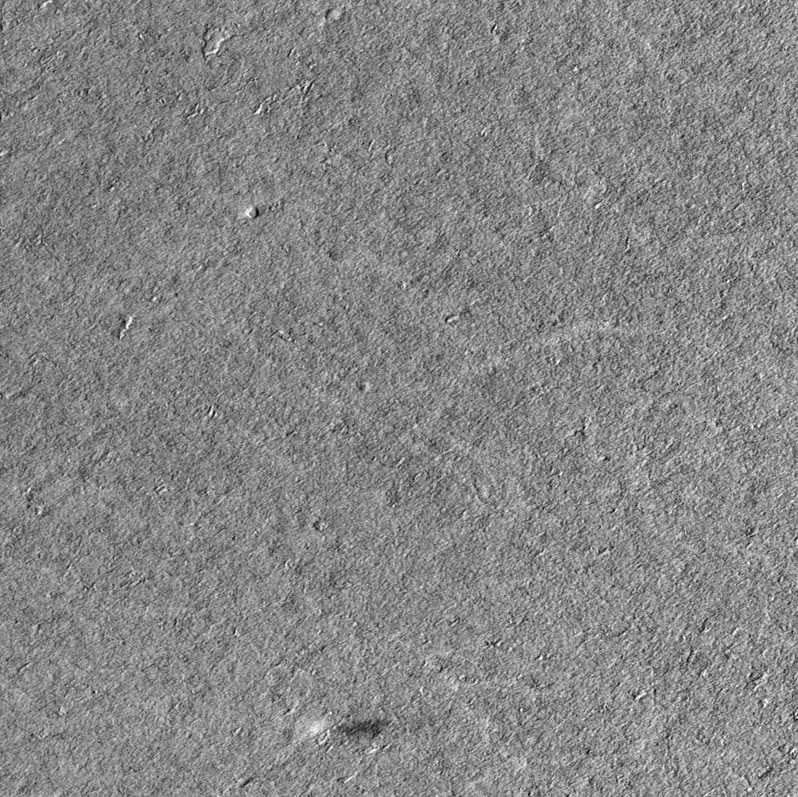dust_devil: (308, 716, 394, 742)
